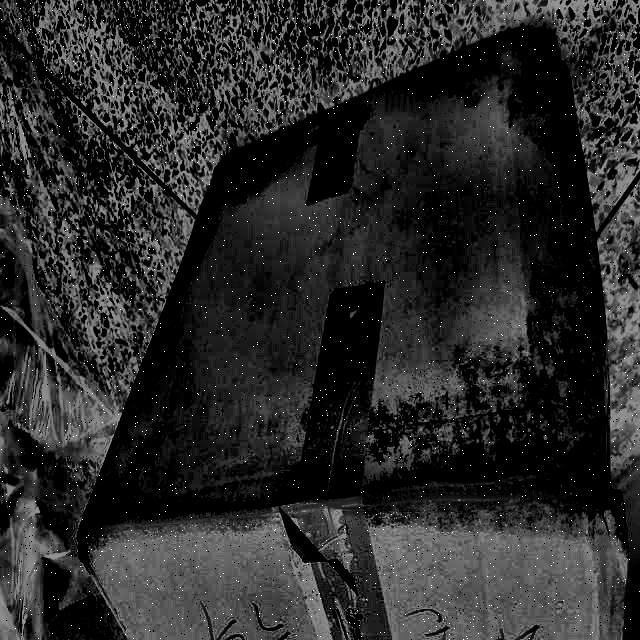box: (58, 14, 637, 640)
wet: (372, 241, 609, 540), (80, 443, 279, 559), (428, 24, 581, 174), (210, 101, 379, 219)
